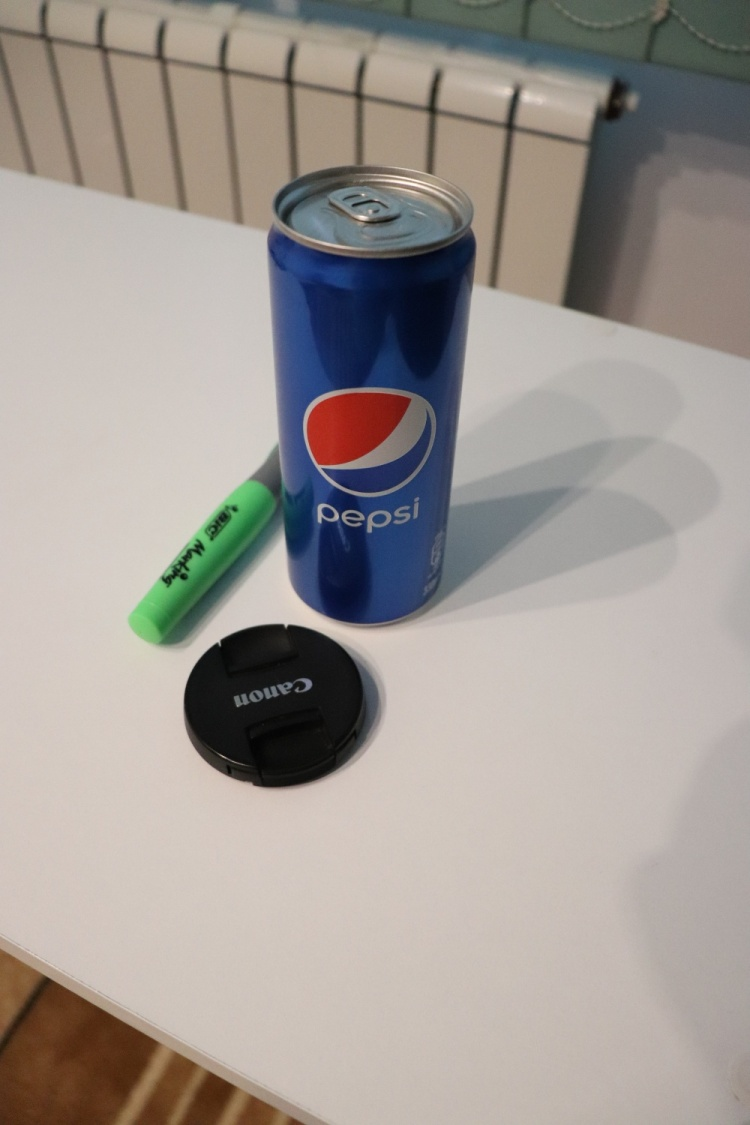pepsi: (255, 160, 493, 638)
